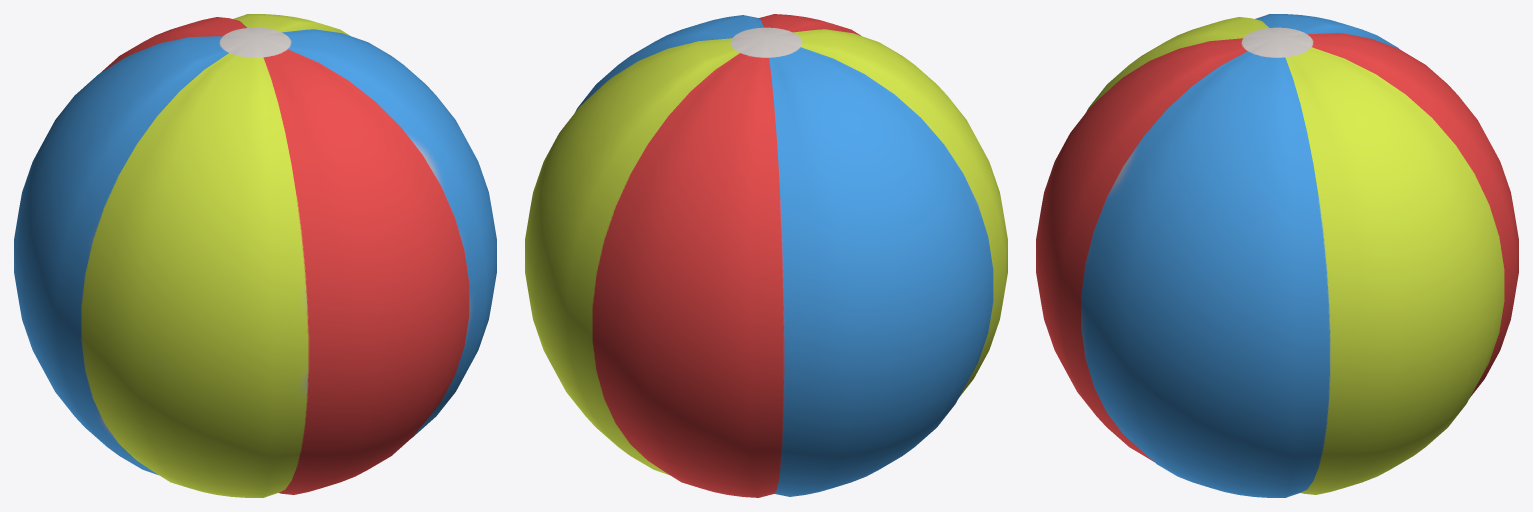
Rendered from beachball.glb.
3 renders of one model, left to right at view 1: azimuth 30°, elevation 25°; view 2: azimuth 150°, elevation 25°; view 3: azimuth 270°, elevation 25°, orthographic.
Visible parts, largest first — view 1: Sphere.001; view 2: Sphere.001; view 3: Sphere.001.
Boxes of the visible parts, bbox=[...] form: Sphere.001: bbox=[14, 14, 496, 497]; Sphere.001: bbox=[525, 14, 1007, 497]; Sphere.001: bbox=[1036, 14, 1518, 497].
Size of the model in its own units: 1.99 by 2 by 1.99.
Materials: 1 (1 with a texture image).
